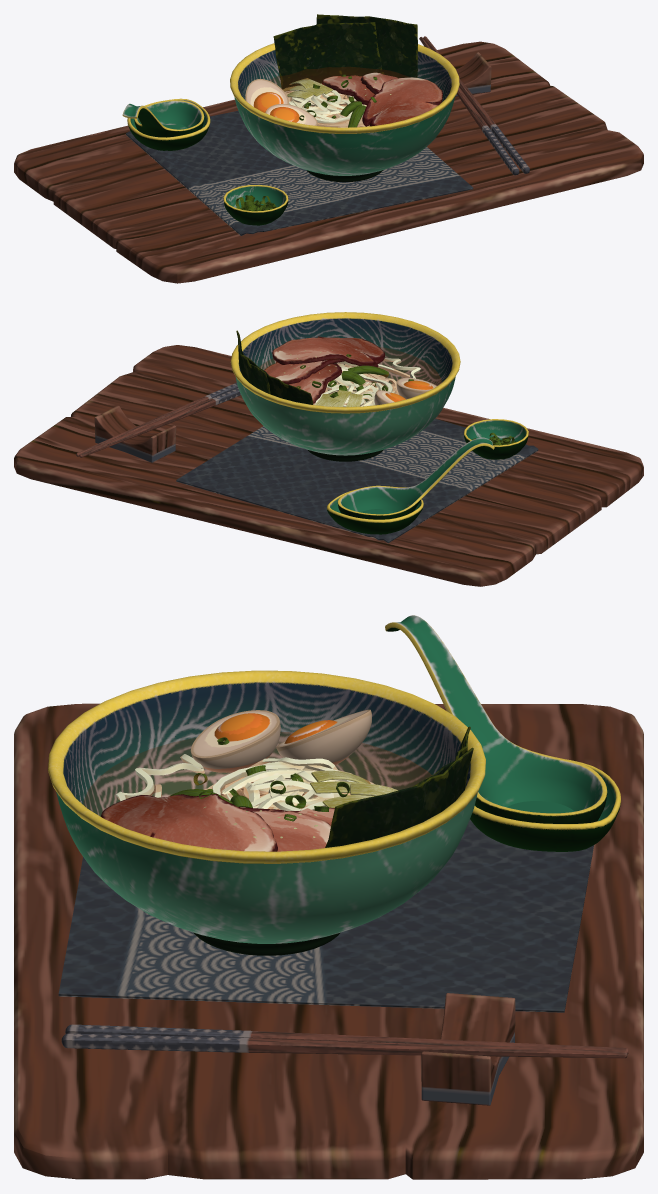
3 views of the same model, one above another, from view 1: azimuth 30°, elevation 25°; view 2: azimuth 150°, elevation 25°; view 3: azimuth 270°, elevation 25° (orthographic). The views are drawn at different scales.
Visible parts, largest first — view 1: wood, Cloth, Bowl, Seaweed2, Seaweed, Ham_3, spoon, chopsticks, Tiny_bowl, Broth, Noodles, Spoon_bowl (+6 smaller); view 2: wood, Bowl, Cloth, spoon, Ham_3, stickholder, chopsticks, Tiny_bowl, Noodles, Broth, Spoon_bowl, Ham_2 (+4 smaller); view 3: wood, Bowl, Cloth, spoon, chopsticks, Broth, stickholder, Ham_3, Seaweed, Noodles, Spoon_bowl, egg_2 (+2 smaller).
Boxes of the visible parts, x1=… form: wood: x1=14, y1=41, x2=643, y2=283; Cloth: x1=126, y1=110, x2=473, y2=235; Bowl: x1=230, y1=43, x2=459, y2=182; Seaweed2: x1=273, y1=22, x2=381, y2=98; Seaweed: x1=316, y1=14, x2=417, y2=78; Ham_3: x1=362, y1=77, x2=442, y2=126; spoon: x1=122, y1=100, x2=204, y2=137; chopsticks: x1=419, y1=36, x2=529, y2=175; Tiny_bowl: x1=223, y1=185, x2=288, y2=225; Broth: x1=269, y1=67, x2=409, y2=127; Noodles: x1=285, y1=83, x2=369, y2=127; Spoon_bowl: x1=127, y1=98, x2=210, y2=150; wood: x1=14, y1=345, x2=643, y2=586; Bowl: x1=230, y1=312, x2=460, y2=461; Cloth: x1=176, y1=418, x2=538, y2=543; spoon: x1=337, y1=437, x2=494, y2=519; Ham_3: x1=272, y1=336, x2=384, y2=367; stickholder: x1=94, y1=405, x2=176, y2=462; chopsticks: x1=76, y1=382, x2=240, y2=457; Tiny_bowl: x1=464, y1=419, x2=528, y2=459; Noodles: x1=313, y1=358, x2=420, y2=406; Broth: x1=259, y1=347, x2=441, y2=404; Spoon_bowl: x1=327, y1=490, x2=423, y2=534; Ham_2: x1=264, y1=359, x2=344, y2=384; wood: x1=14, y1=703, x2=643, y2=1179; Bowl: x1=48, y1=670, x2=485, y2=955; Cloth: x1=58, y1=819, x2=594, y2=1012; spoon: x1=385, y1=615, x2=607, y2=823; chopsticks: x1=61, y1=1024, x2=628, y2=1058; Broth: x1=83, y1=732, x2=431, y2=816; stickholder: x1=421, y1=993, x2=515, y2=1105; Ham_3: x1=101, y1=793, x2=277, y2=851; Seaweed: x1=325, y1=747, x2=473, y2=847; Noodles: x1=115, y1=754, x2=374, y2=810; Spoon_bowl: x1=470, y1=759, x2=621, y2=851; egg_2: x1=190, y1=710, x2=280, y2=772.
Bounding box in the file's own units: 21.64 × 5.09 × 12.65.
Materials: 5 (5 with a texture image).
